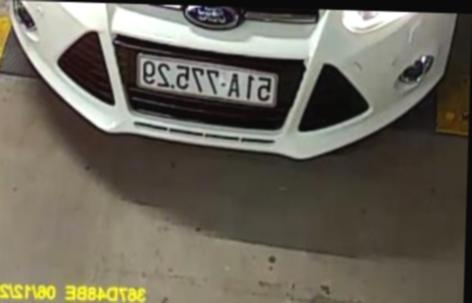License_Plate: (130, 56, 282, 103)
